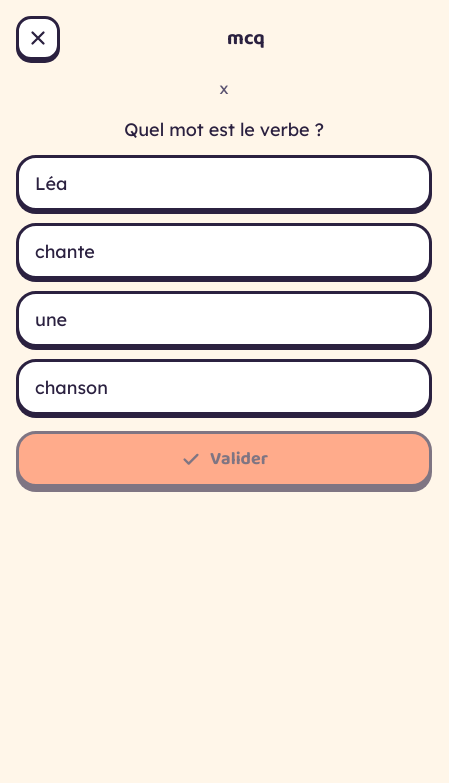
it: GameScreen, the right answer after a wrong one › shows it next to the mascot, and keeps it until « Continuer » is tapped
Click the button "Léa" at (51, 183), box [16,155,432,211]
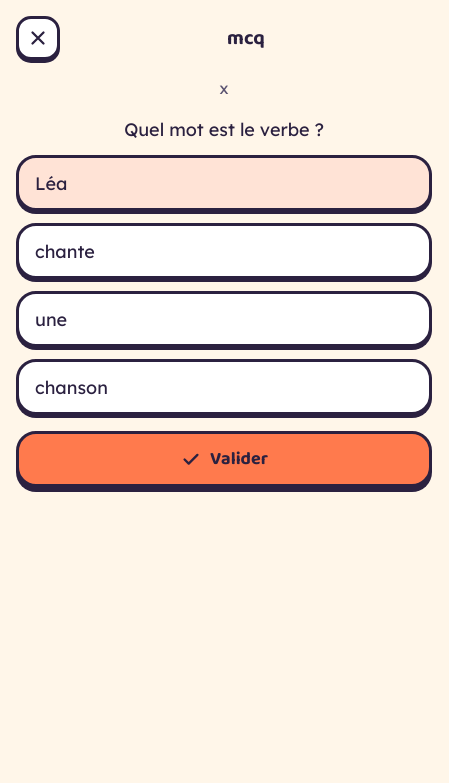
Click the button "Valider" at (224, 459), box [16,431,432,487]
Wait 60000 ms
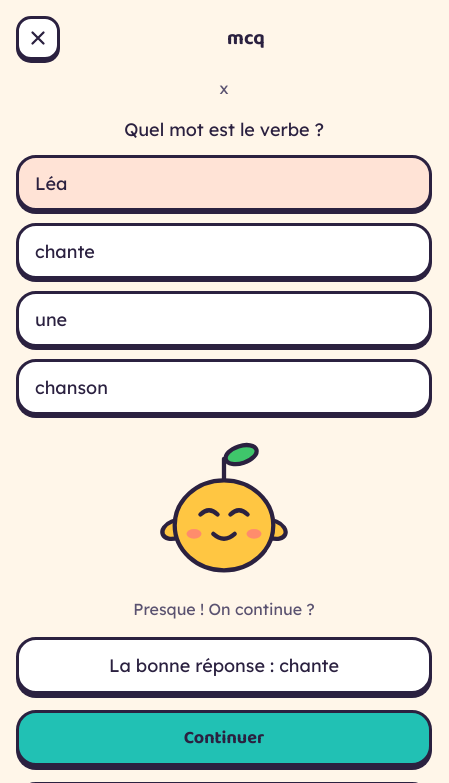
Expected: the text "Presque ! On continue ?" is shown, [133,597,315,621]
Expected: the message reads "La bonne réponse : chante", [109,654,339,677]
Click the button "Continuer" at (224, 738), box [16,710,432,766]
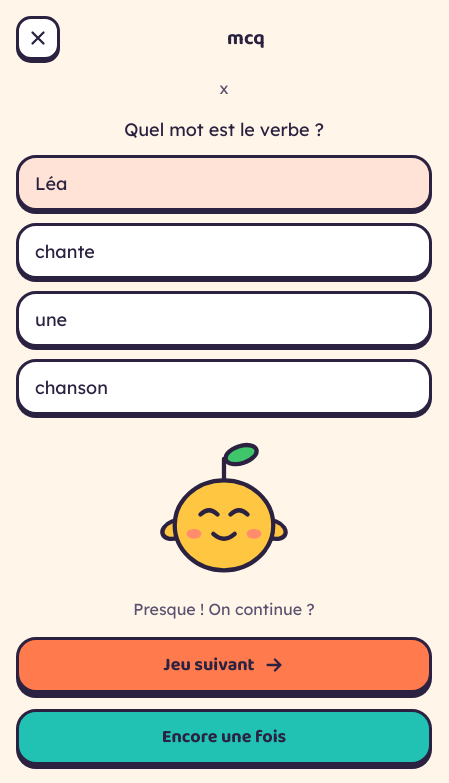
Expected: the button "Encore une fois" is shown, [16,709,432,765]
Expected: the text "La bonne réponse : chante" is gone
Expected: the button "Continuer" is gone
